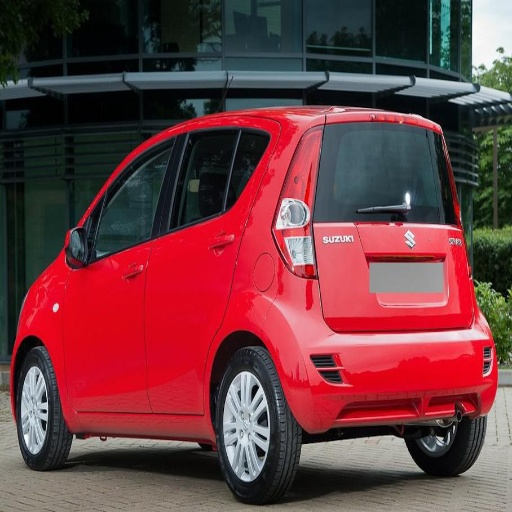back_bumper: (278, 311, 497, 430)
back_left_door: (147, 124, 253, 411)
trunk: (295, 148, 469, 327)
